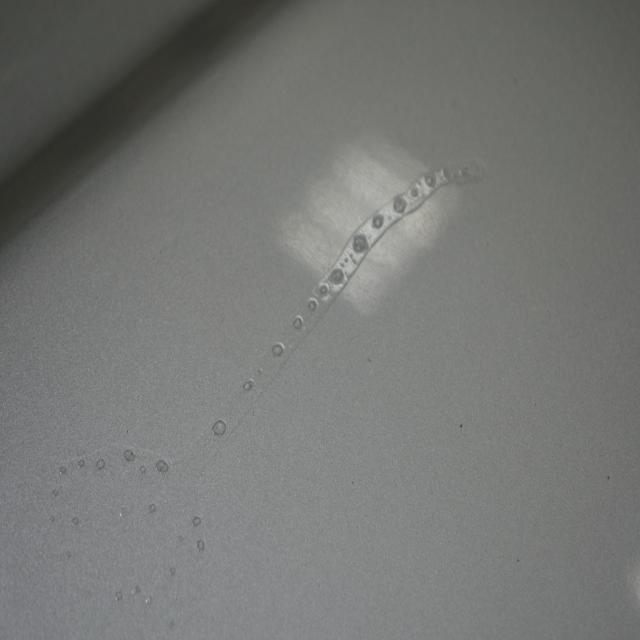dirt: (605, 471, 612, 482), (514, 554, 522, 563), (460, 422, 465, 430)
runs: (19, 159, 492, 639)
